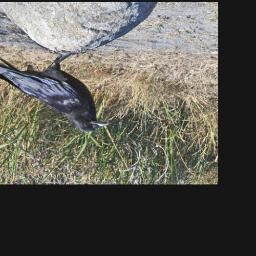Crow: (0, 46, 111, 135)
